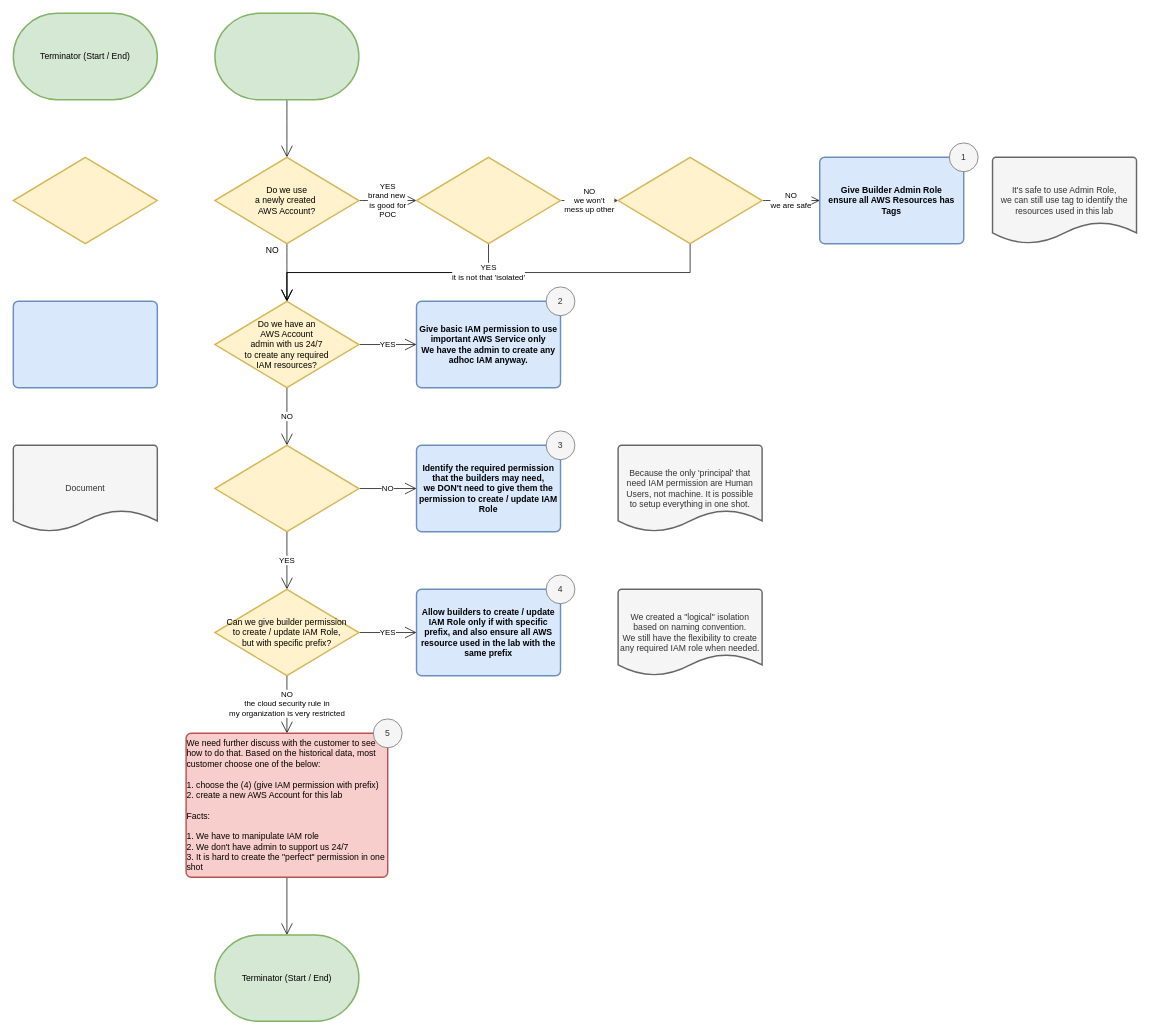
Image size: 1149x1034. Some labels were removed from this diagram. The centre of each missing label's shape, as x and y in pixels:
Can this Account do cross account activity?: the point at 689,200
Decision: the point at 85,200
Do we use any service that requires IAM role? (EC2 / Lambda / Glue / ...): the point at 286,488
Is there any important application already running on that?: the point at 488,200
Process: the point at 85,344
Start Choose a IAM Role strategy for build lab: the point at 286,56
